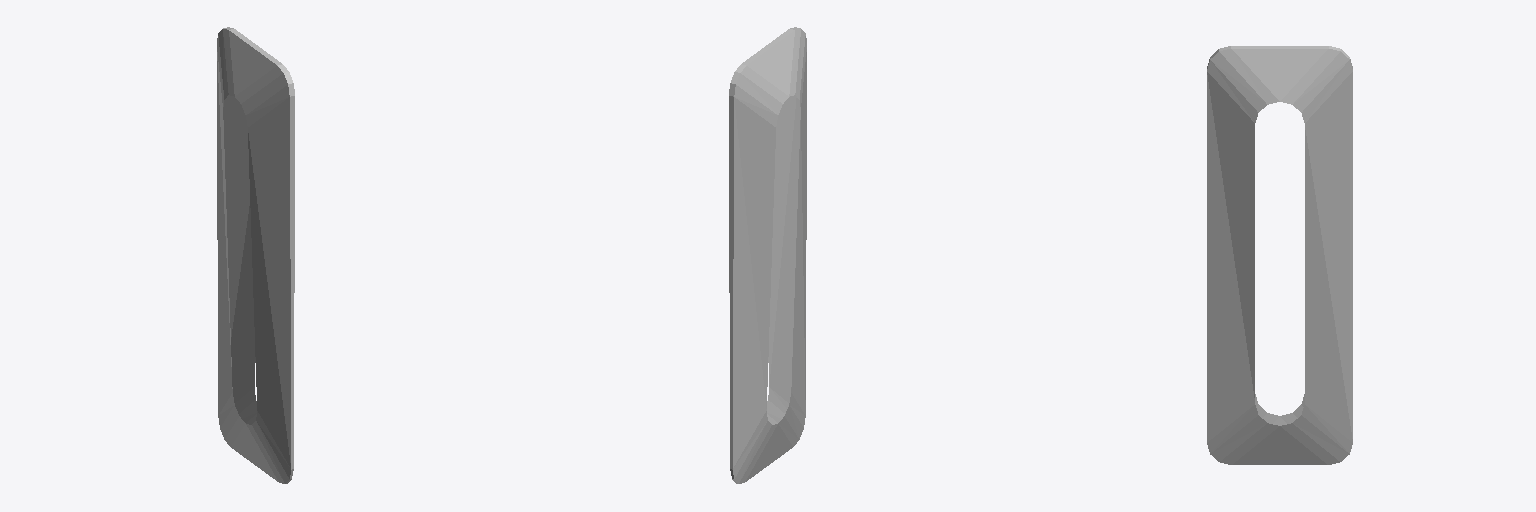
File: AccordianFold.obj
The picture shows the model from 3 angles: view 1: azimuth 30°, elevation 25°; view 2: azimuth 150°, elevation 25°; view 3: azimuth 270°, elevation 25°; orthographic projection.
Visible parts, largest first — view 1: Converted object 0; view 2: Converted object 0; view 3: Converted object 0.
Boxes of the visible parts, x1,y1,x2,y2 form: Converted object 0: [217, 27, 294, 483]; Converted object 0: [729, 27, 806, 483]; Converted object 0: [1207, 46, 1352, 464].
Bounding box in the file's own units: 2.02 × 19 × 6.03.